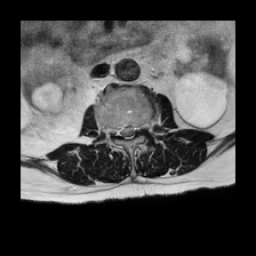CCS_stenosis: (126, 118, 131, 145)
LFS_normal: (137, 114, 144, 137)
LLS_normal: (131, 117, 137, 141)
RFS_normal: (112, 119, 119, 142)
RLS_normal: (119, 119, 126, 142)
